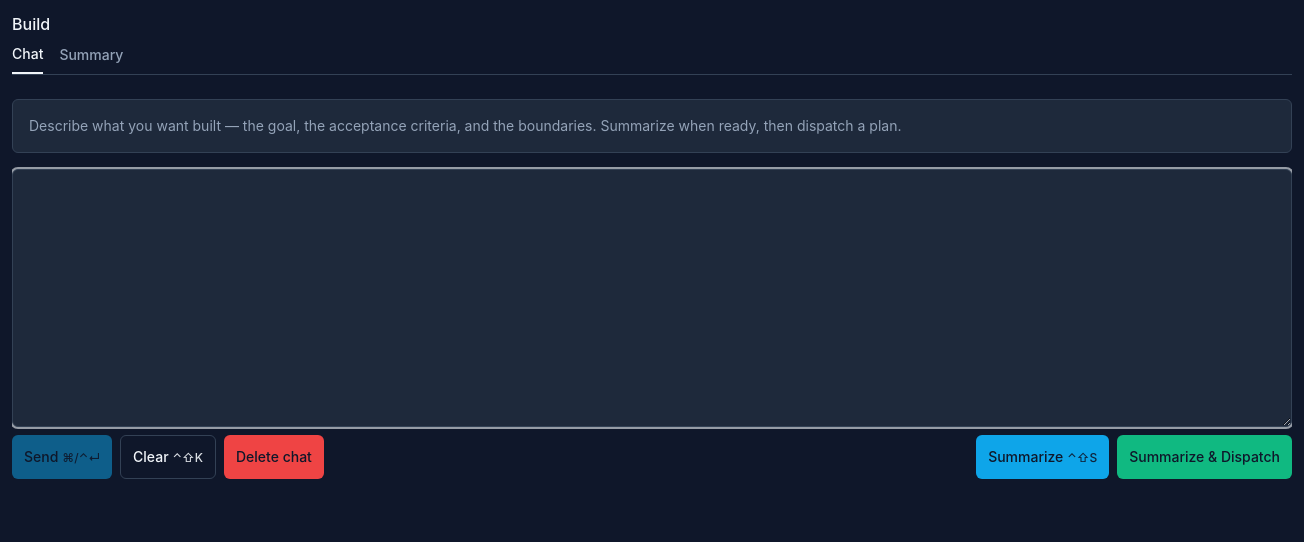
BuildChat › shows an extract error when re-extracting after answering questions fails
Click the button with test id "summarize-button" at (1043, 457), box left=976, top=435, right=1109, bottom=479
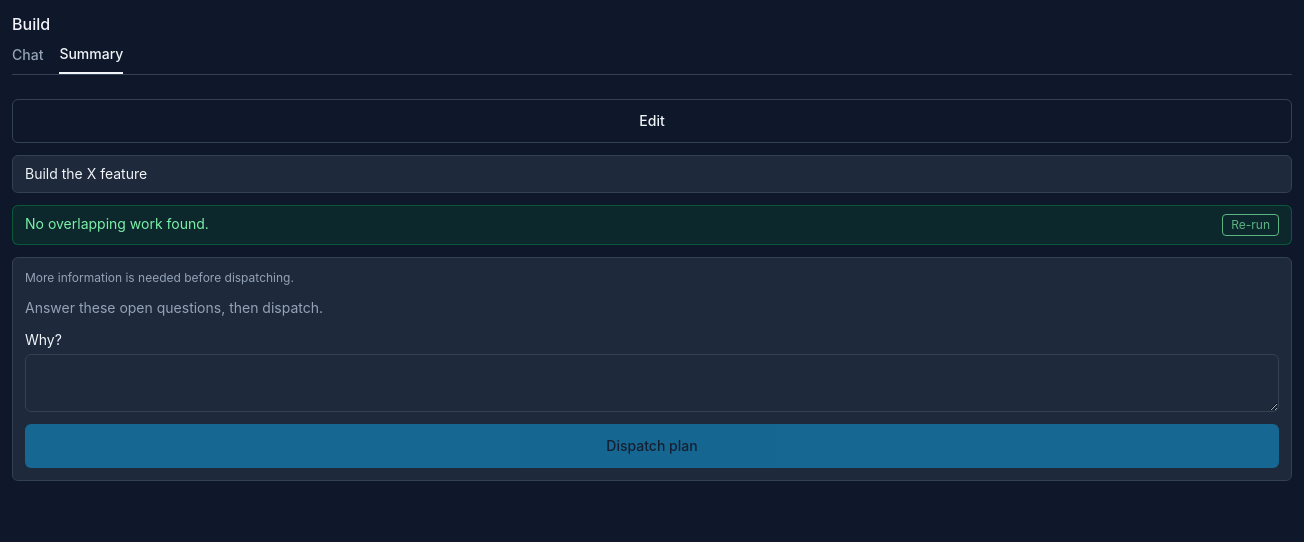
Expected: the text box with test id "answer-0" is shown
Type "because" into the text box with test id "answer-0" at (652, 383), box left=25, top=354, right=1279, bottom=412
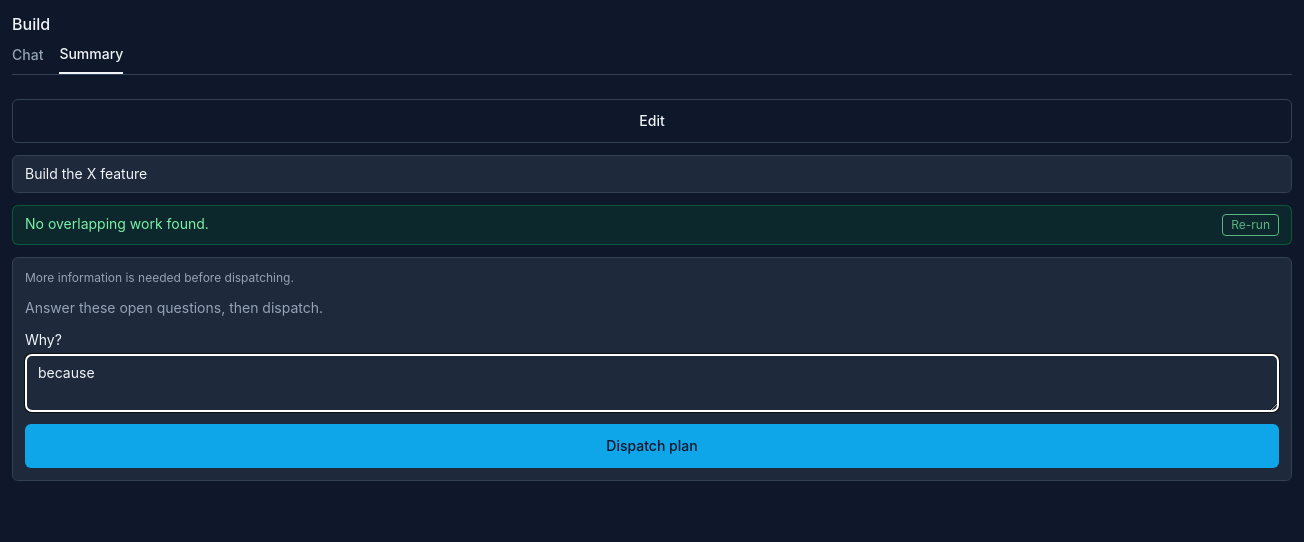
Click the button with test id "dispatch-build" at (652, 446), box left=25, top=424, right=1279, bottom=468
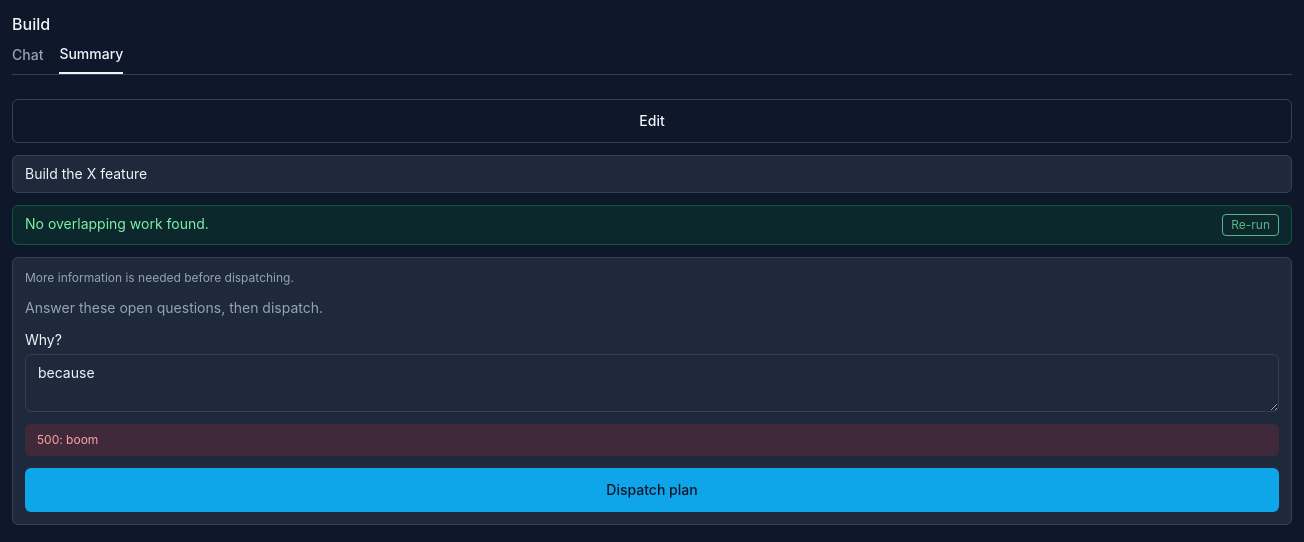
Expected: the message shows "500", left=37, top=432, right=98, bottom=447
